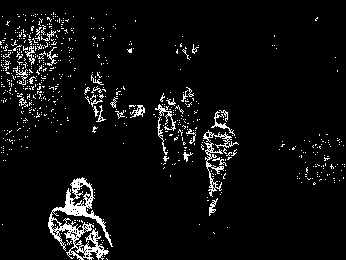person: (48, 175, 114, 260), (200, 107, 239, 217), (154, 88, 182, 168), (178, 83, 200, 162), (81, 69, 107, 134)
